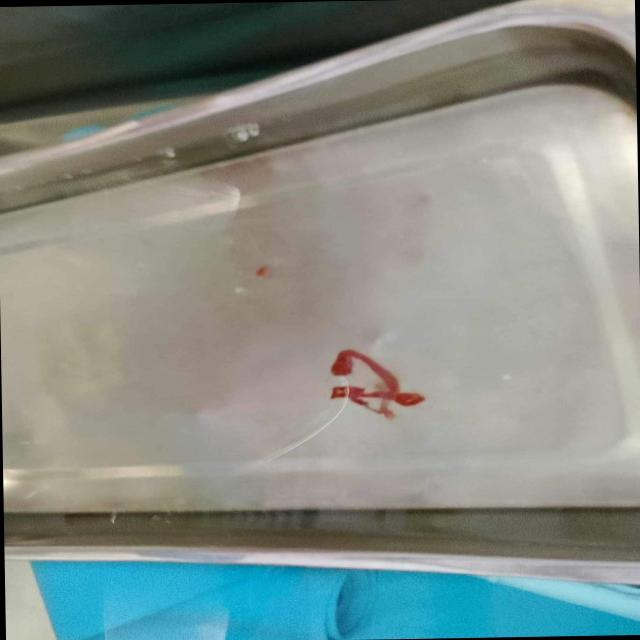General: (20, 556, 637, 638)
Pathological: (1, 5, 637, 520)
